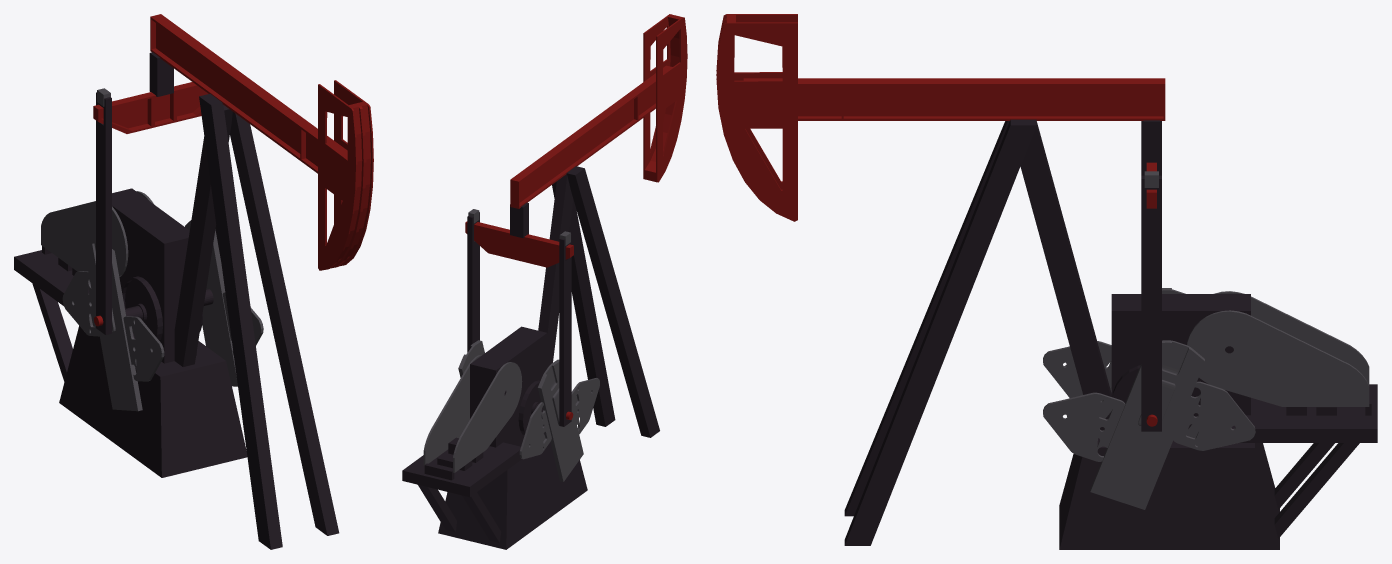
File: ares_Machine_004_IS.fbx
The picture shows the model from 3 angles, left to right: view 1: azimuth 30°, elevation 25°; view 2: azimuth 150°, elevation 25°; view 3: azimuth 270°, elevation 25°; orthographic projection. The views are drawn at different scales.
Visible parts, largest first — view 1: Cube.014, Cube.015, Cylinder.003, Cube.001, Cube.006, Cube.008, Cube.013, Cube.003, Cylinder, Cube.002, Cube.010, Cube.016 (+4 smaller); view 2: Cube.014, Cube.015, Cylinder, Cylinder.003, Cube.001, Cube.006, Cube.003, Cube.008, Cube.016, Cube.013, Cube.002, Cube.011 (+4 smaller); view 3: Cube.015, Cube.001, Cube.014, Cylinder, Cylinder.003, Cube.008, Cube.013, Cube.006, Cube.010, Cube.003, Cube.016, Cube (+1 smaller).
Boxes of the visible parts, bbox=[...] form: Cube.014: bbox=[199, 94, 339, 549]; Cube.015: bbox=[59, 326, 247, 477]; Cylinder.003: bbox=[318, 80, 373, 270]; Cube.001: bbox=[150, 14, 347, 173]; Cube.006: bbox=[112, 188, 196, 363]; Cube.008: bbox=[84, 220, 237, 411]; Cube.013: bbox=[174, 105, 232, 366]; Cube.003: bbox=[96, 92, 220, 334]; Cylinder: bbox=[41, 191, 153, 277]; Cube.002: bbox=[93, 82, 208, 133]; Cube.010: bbox=[123, 292, 263, 381]; Cube.016: bbox=[14, 250, 89, 305]; Cube.014: bbox=[552, 166, 659, 437]; Cube.015: bbox=[438, 433, 587, 549]; Cylinder: bbox=[423, 354, 522, 472]; Cylinder.003: bbox=[643, 14, 687, 182]; Cube.001: bbox=[510, 65, 672, 208]; Cube.006: bbox=[470, 326, 547, 447]; Cube.003: bbox=[467, 212, 571, 426]; Cube.008: bbox=[458, 340, 583, 481]; Cube.016: bbox=[402, 442, 521, 497]; Cube.013: bbox=[538, 174, 573, 367]; Cube.002: bbox=[465, 221, 573, 267]; Cube.011: bbox=[418, 485, 501, 543]; Cube.015: bbox=[1059, 438, 1279, 549]; Cube.001: bbox=[743, 78, 1165, 120]; Cube.014: bbox=[844, 119, 1036, 545]; Cylinder: bbox=[1187, 291, 1369, 406]; Cylinder.003: bbox=[716, 14, 797, 221]; Cube.008: bbox=[1090, 288, 1204, 509]; Cube.013: bbox=[1020, 121, 1111, 430]; Cube.006: bbox=[1111, 294, 1250, 428]; Cube.010: bbox=[1043, 341, 1125, 461]; Cube.003: bbox=[1141, 121, 1161, 431]; Cube.016: bbox=[1231, 384, 1377, 442]; Cube: bbox=[1173, 381, 1255, 450].
Bounding box in the file's own units: 1585 × 5446 × 6404.
